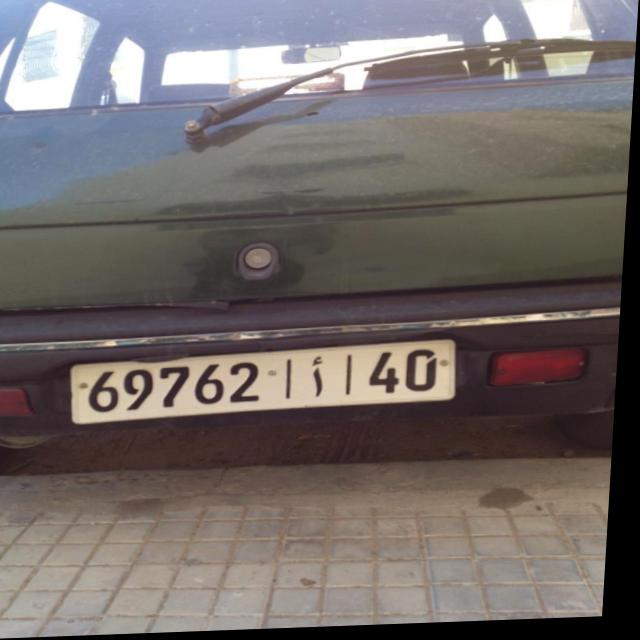License-Plate: (76, 344, 461, 426)
